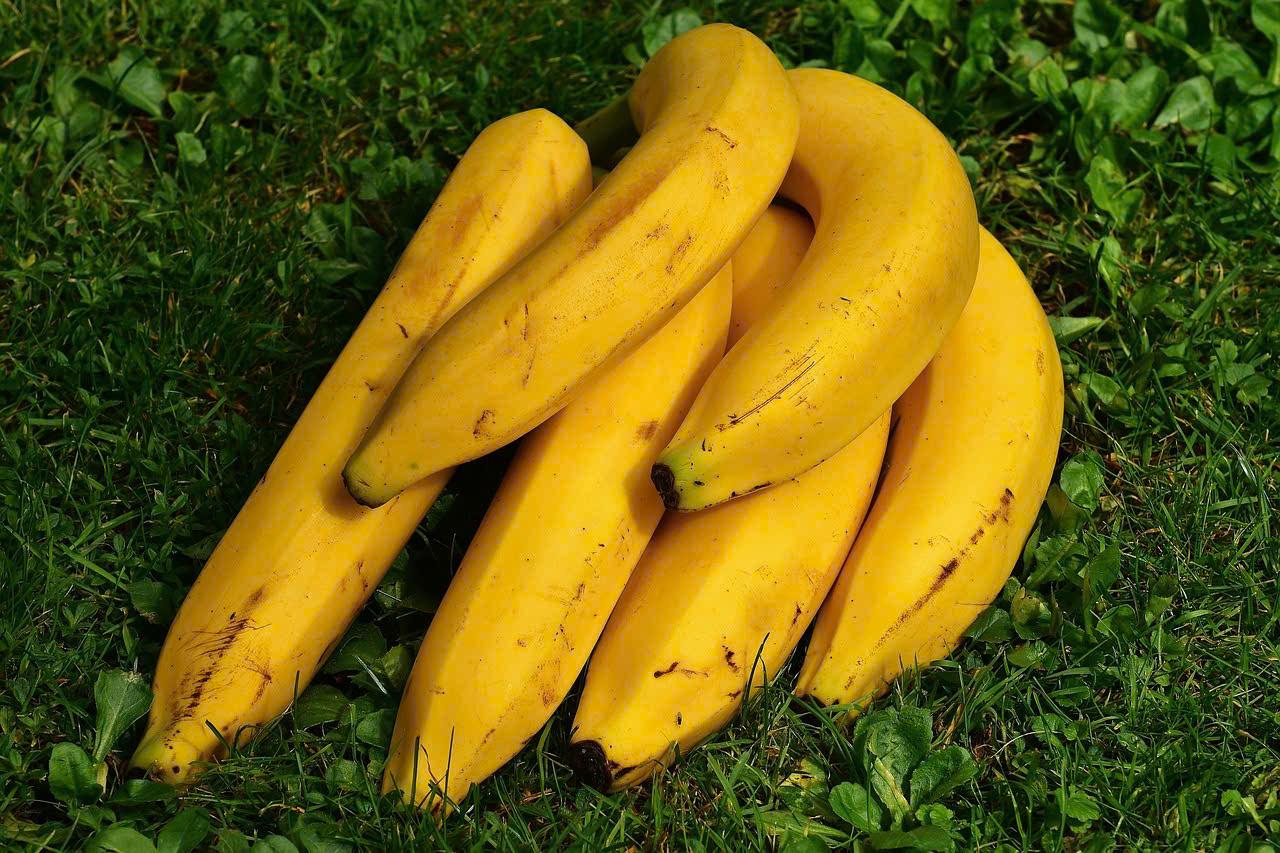banana: (147, 36, 1072, 788)
